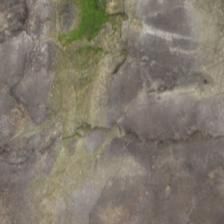Crack: (68, 121, 222, 152), (7, 52, 43, 124), (4, 3, 40, 48)
